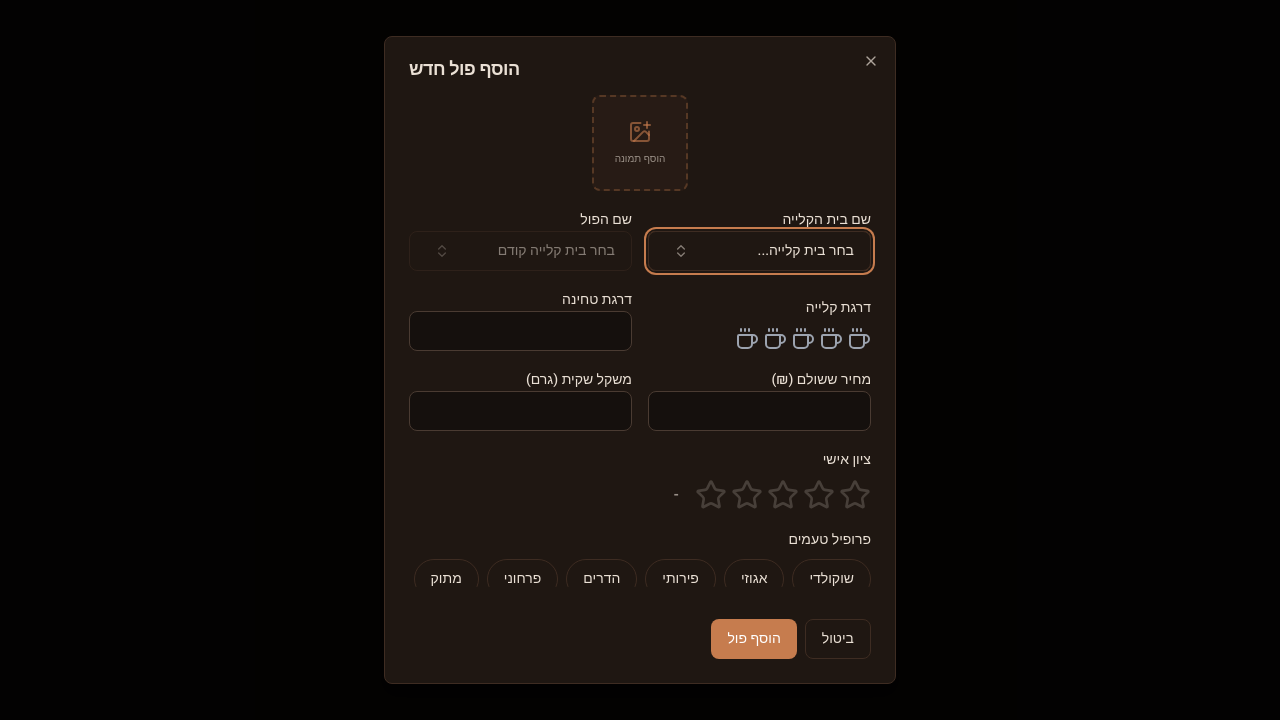
it: AddBeanDialog › should display an error if bean name is missing
This screenshot has width=1280, height=720.
Click the button "הוסף פול": (754, 639) [711,619,797,659]
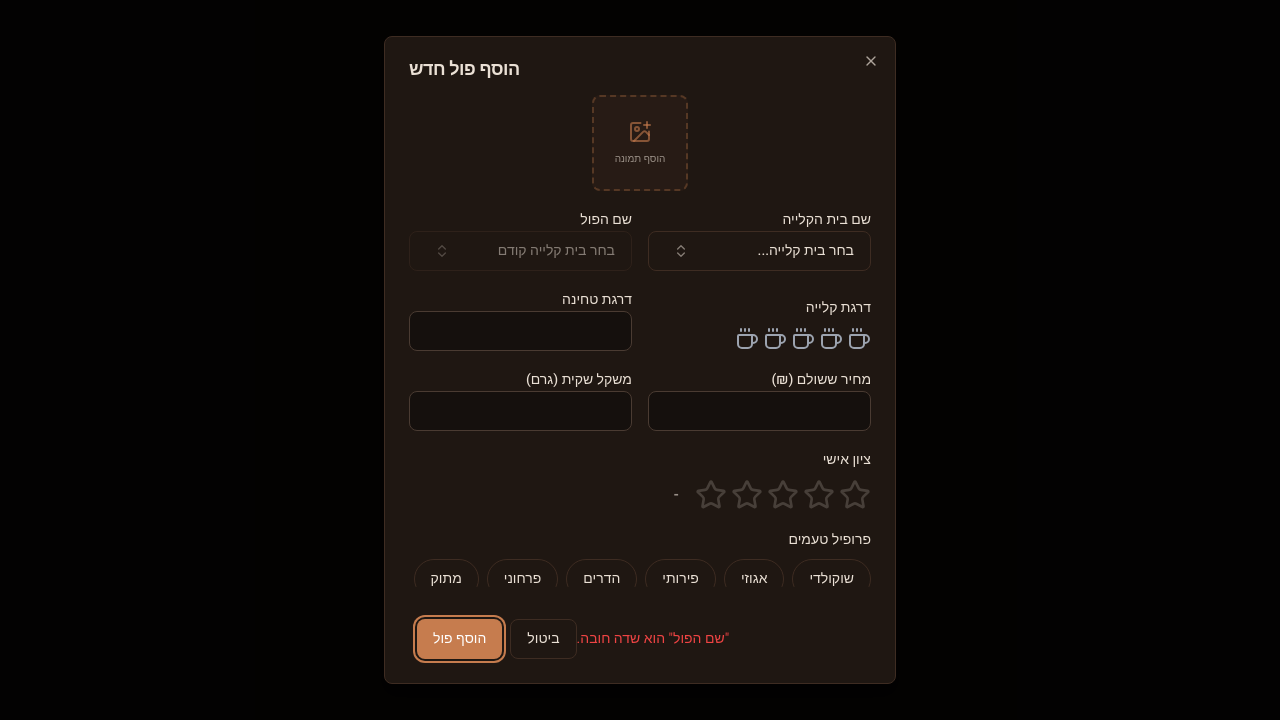
expect the text "\"שם הפול\" הוא שדה חובה." is shown: met, box [577,629,729,649]
